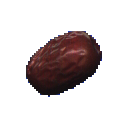gd: (15, 24, 113, 106)
